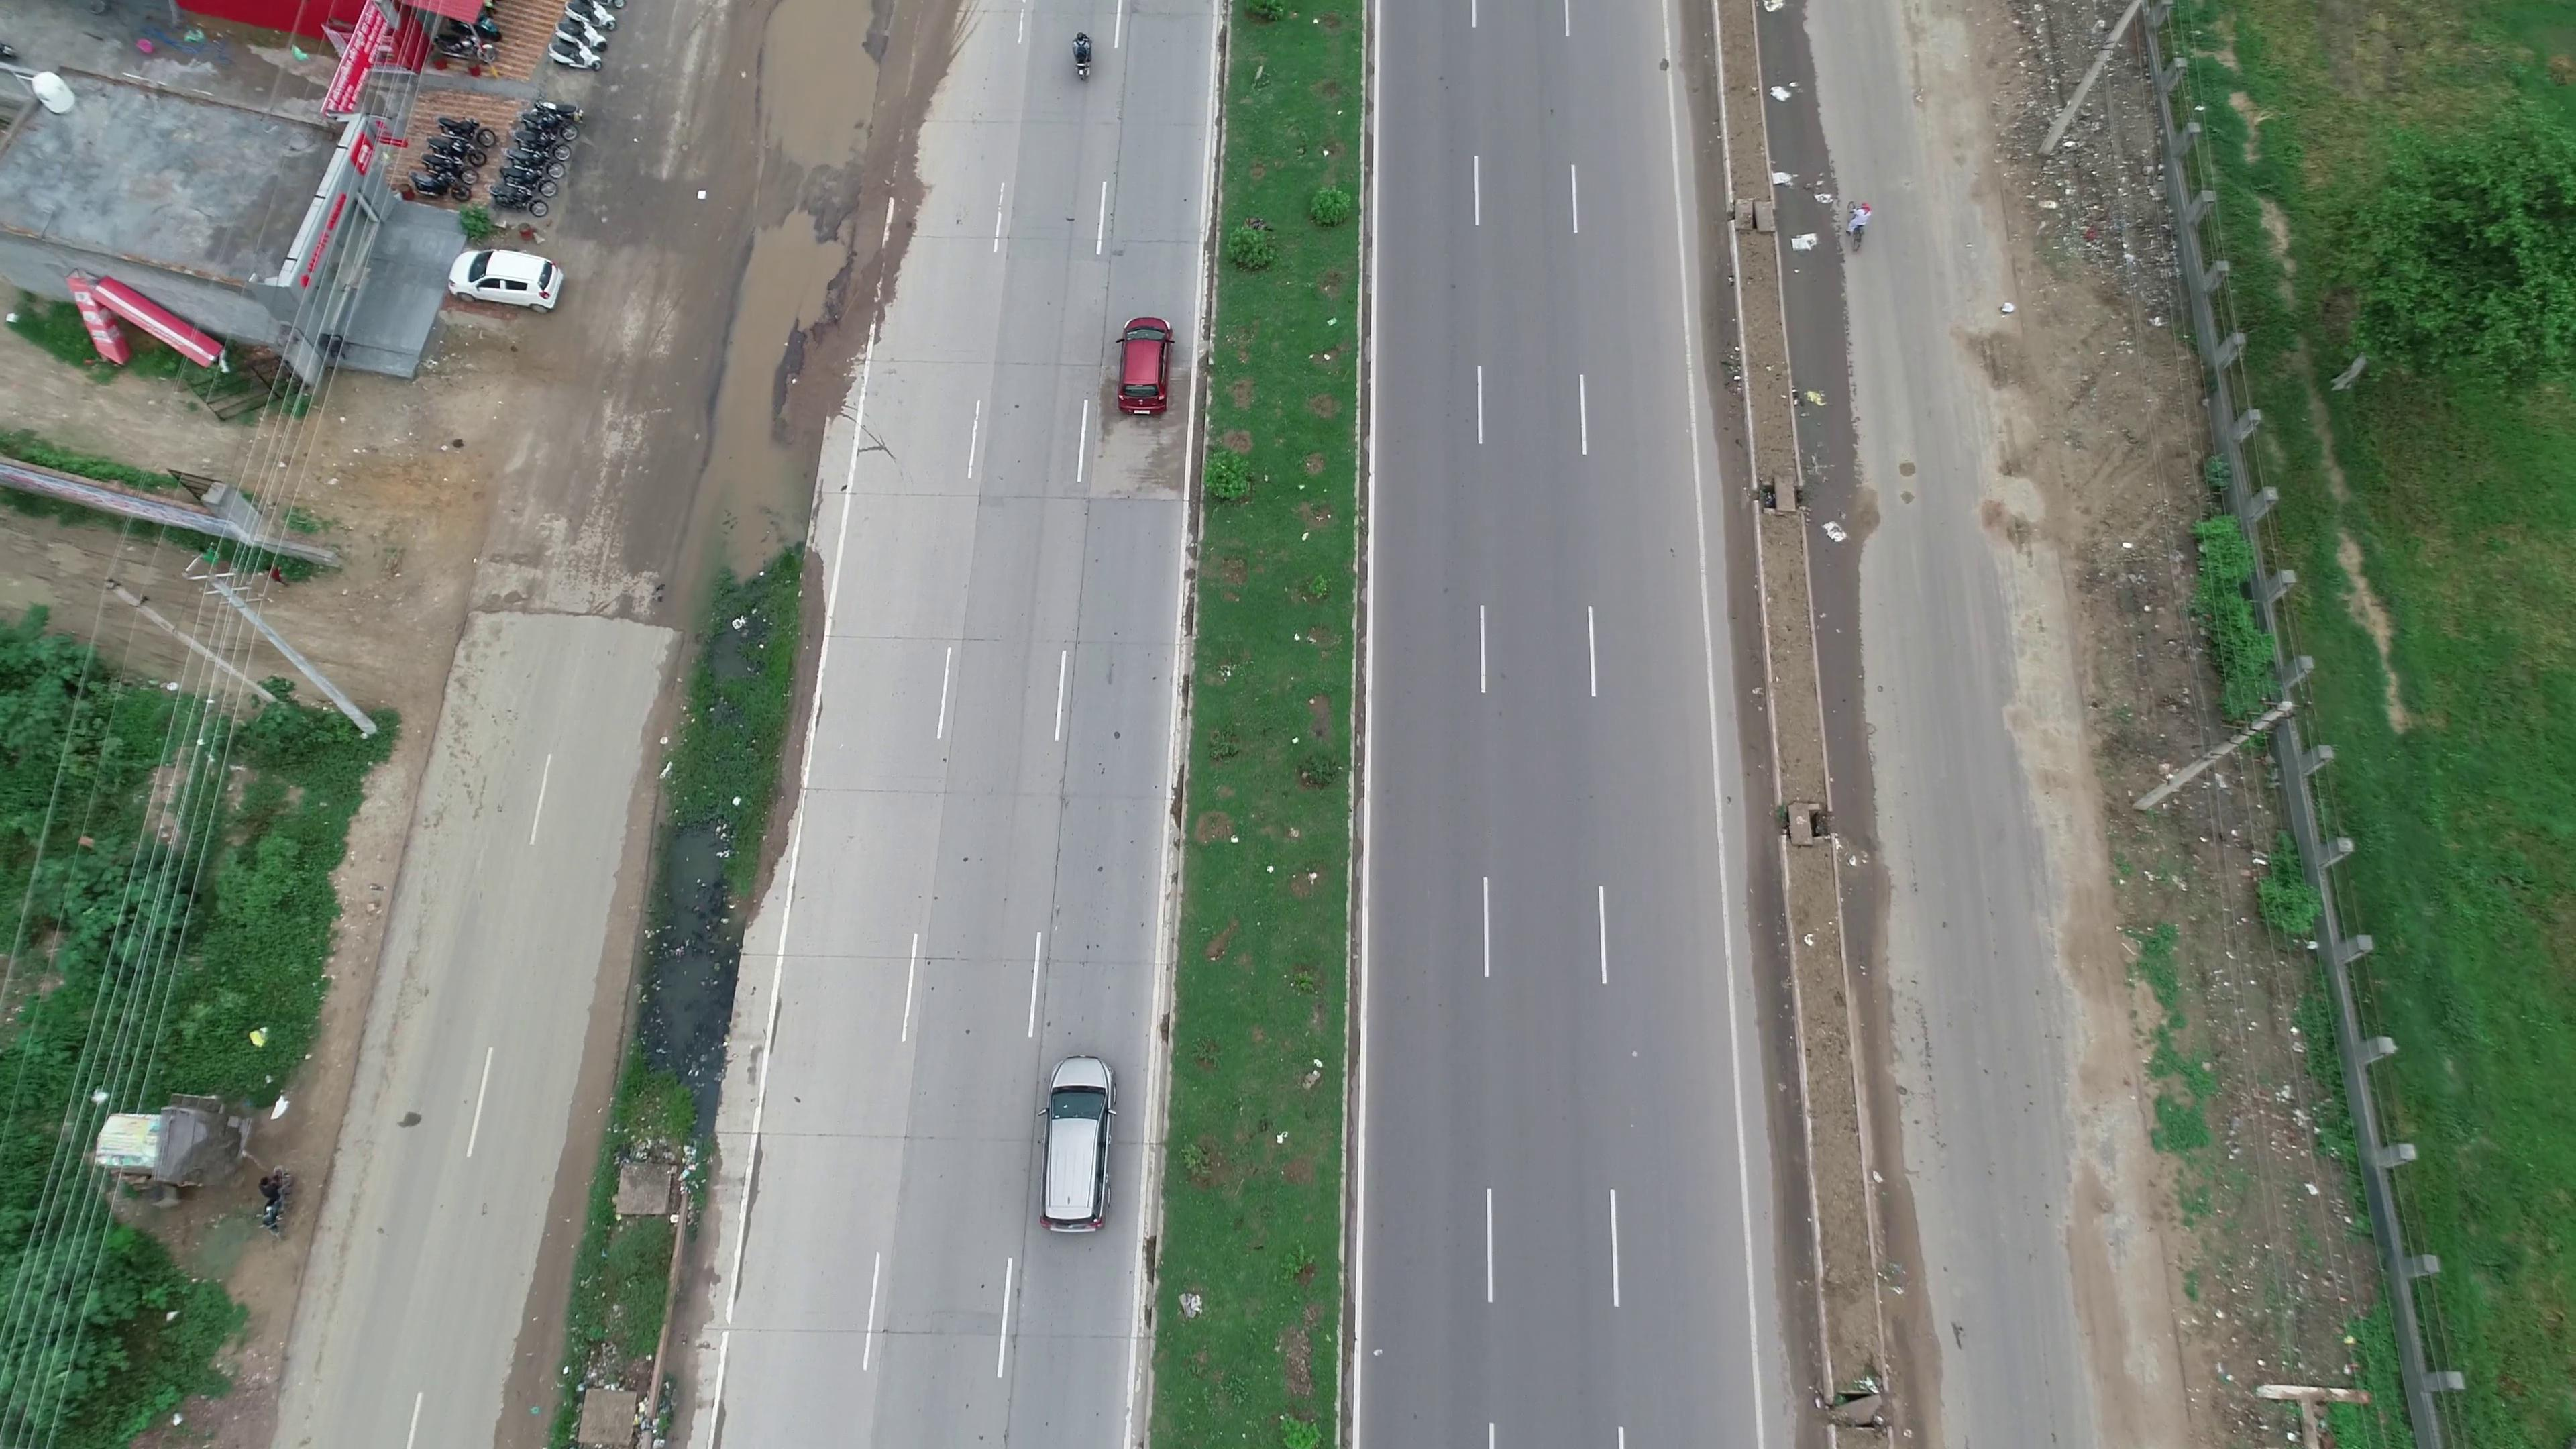Waterlogging: (672, 205, 862, 563)
